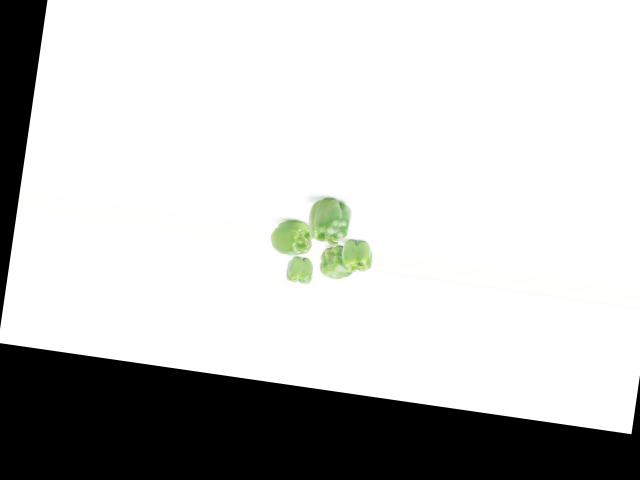bell_pepper: (337, 233, 375, 272)
